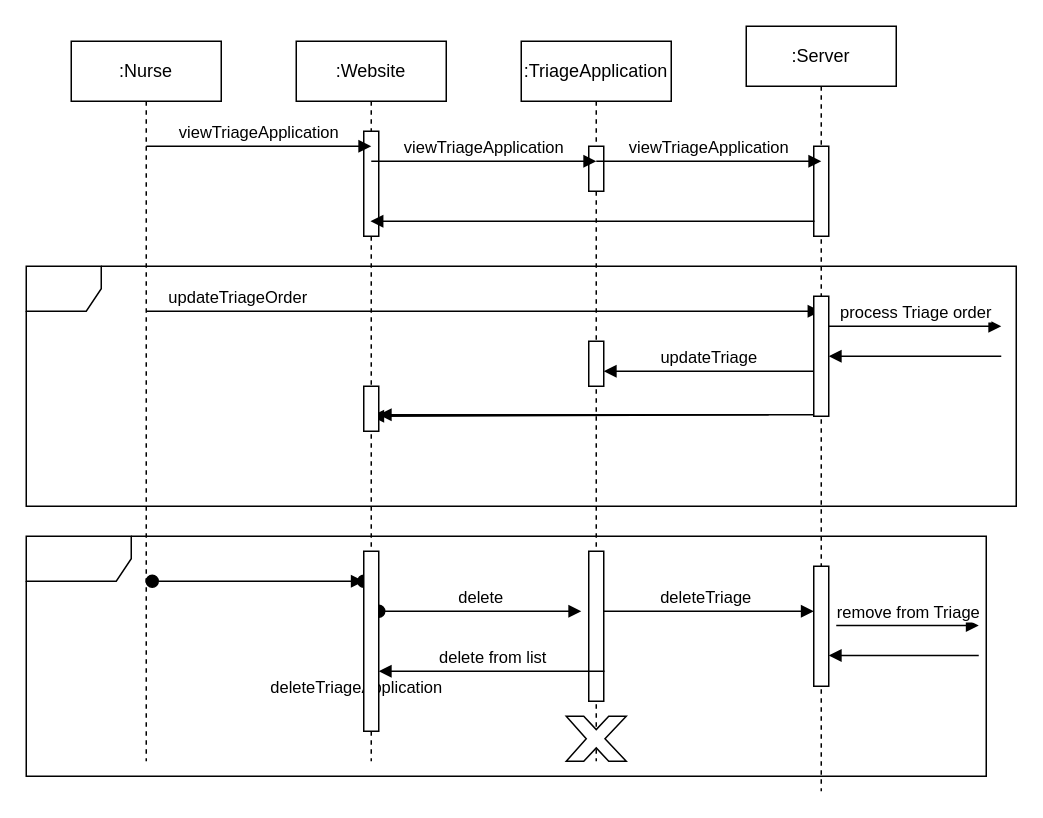
The diagram is 1043 pixels wide and 818 high, and some of its shapes have lost their labels. The box of each missing label's shape, as (x1, y1, x2, y2) in pixels:
Delete Application: (25, 535, 986, 776)
Update Order: (25, 265, 1016, 506)
